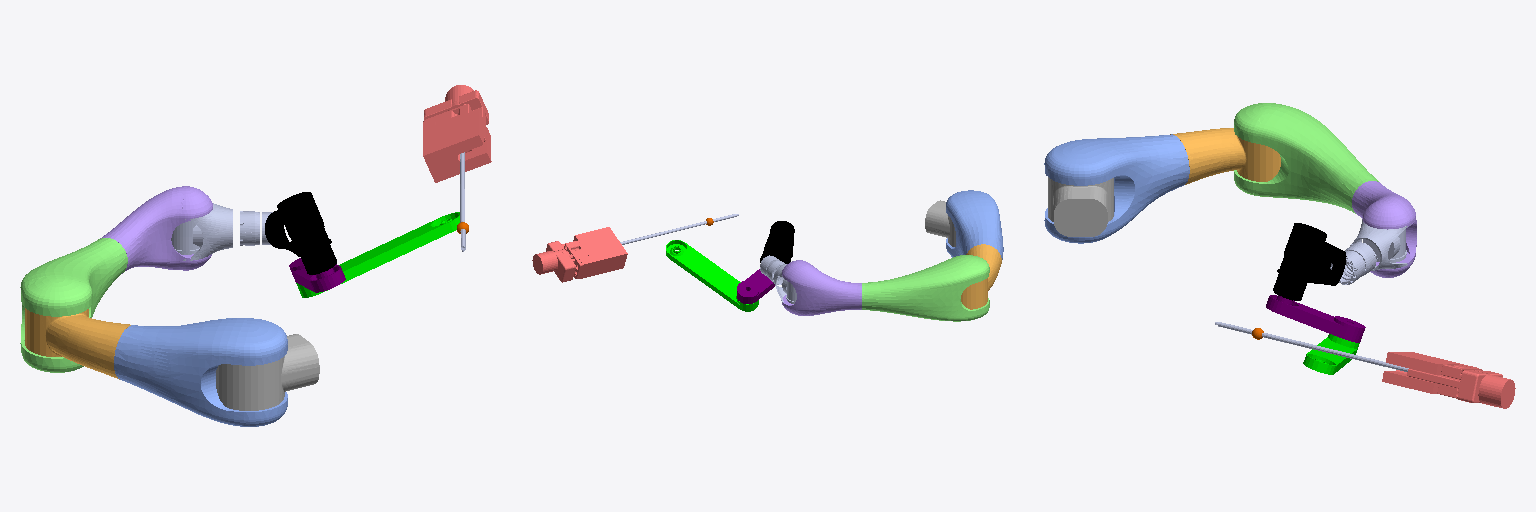
URDF robot description (V2_Arm_URDF):
<robot
  name="V2_Arm_URDF">

  <link
    name="V2_base_link">
    <inertial>
      <origin
        xyz="0.03524 -0.02456 -0.00065"
        rpy="0 0 0" />
      <mass
        value="2.44454" />
      <inertia
        ixx="0.00648"
        ixy="-0.00362"
        ixz="0.00009"
        iyy="0.00808"
        iyz="-0.00007"
        izz="0.01233" />
    </inertial>
    <visual>
      <origin
        xyz="0 0 0"
        rpy="0 0 0" />
      <geometry>
        <mesh
          filename="package://V2_Arm_URDF/meshes/V2_base_link.STL" />
      </geometry>
      <material
        name="">
        <color
          rgba="0.75294 0.75294 0.75294 1" />
      </material>
    </visual>
    <collision>
      <origin
        xyz="0 0 0"
        rpy="0 0 0" />
      <geometry>
        <mesh
          filename="package://V2_Arm_URDF/meshes/V2_base_link.STL" />
      </geometry>
    </collision>
  </link>

<link
    name="V2_shoulder_pitch_link">
    <inertial>
      <origin
        xyz="-0.01907 -0.08769 -3e-005"
        rpy="0 0 0" />
      <mass
        value="1.1442" />
      <inertia
        ixx="0.0021"
        ixy="0.0001"
        ixz="0"
        iyy="0.00127"
        iyz="0"
        izz="0.00175" />
    </inertial>
    <visual>
      <origin
        xyz="0 0 0"
        rpy="0 0 0" />
      <geometry>
        <mesh
          filename="package://V2_Arm_URDF/meshes/V2_shoulder_pitch_link.STL" />
      </geometry>
      <material
        name="">
        <color
          rgba="0.6 0.72549 1 1" />
      </material>
    </visual>
    <collision>
      <origin
        xyz="0 0 0"
        rpy="0 0 0" />
      <geometry>
        <mesh
          filename="package://V2_Arm_URDF/meshes/V2_shoulder_pitch_link.STL" />
      </geometry>
    </collision>
  </link>

<joint
    name="V2_shoulder_pitch_joint"
    type="revolute">
    <origin
      xyz="0 0 0"
      rpy="0 0 -2.617993877991494" />
    <parent
      link="V2_base_link" />
    <child
      link="V2_shoulder_pitch_link" />
    <axis
      xyz="0 0 1" />
    <limit effort="30" lower="-0.7809" upper="2.2385" velocity="1.0"/>
  </joint>

<link
    name="V2_shoulder_roll_link">
    <inertial>
      <origin
        xyz="0.01458 -0.00413 -0.02516"
        rpy="0 0 0" />
      <mass
        value="1.11006" />
      <inertia
        ixx="0.00402"
        ixy="-0.00002"
        ixz="0.00040"
        iyy="0.00409"
        iyz="-0.00012"
        izz="0.00088" />
    </inertial>
    <visual>
      <origin
        xyz="0 0 0"
        rpy="0 0 0" />
      <geometry>
        <mesh
          filename="package://V2_Arm_URDF/meshes/V2_shoulder_roll_link.STL" />
      </geometry>
      <material
        name="">
        <color
          rgba="1 0.75686 0.38431 1" />
      </material>
    </visual>
    <collision>
      <origin
        xyz="0 0 0"
        rpy="0 0 0" />
      <geometry>
        <mesh
          filename="package://V2_Arm_URDF/meshes/V2_shoulder_roll_link.STL" />
      </geometry>
    </collision>
  </link>

<joint
    name="V2_shoulder_roll_joint"
    type="revolute">
    <origin
      xyz="0.03000 -0.34986 0"
      rpy="-1.570796326794897 0 3.141592653589793" />
    <parent
      link="V2_shoulder_pitch_link" />
    <child
      link="V2_shoulder_roll_link" />
    <axis
      xyz="0 0 1" />
    <limit effort="30" lower="-1.5708" upper="1.5708" velocity="1.0"/>
  </joint>

<link
    name="V2_elbow_link">
    <inertial>
      <origin
        xyz="0.02563 -0.07981 -0.00218"
        rpy="0 0 0" />
      <mass
        value="1.24239" />
      <inertia
        ixx="0.00305"
        ixy="-0.00044"
        ixz="0.00007"
        iyy="0.00164"
        iyz="-0.00018"
        izz="0.00268" />
    </inertial>
    <visual>
      <origin
        xyz="0 0 0"
        rpy="0 0 0" />
      <geometry>
        <mesh
          filename="package://V2_Arm_URDF/meshes/V2_elbow_link.STL" />
      </geometry>
      <material
        name="">
        <color
          rgba="0.61569 1 0.55294 1" />
      </material>
    </visual>
    <collision>
      <origin
        xyz="0 0 0"
        rpy="0 0 0" />
      <geometry>
        <mesh
          filename="package://V2_Arm_URDF/meshes/V2_elbow_link.STL" />
      </geometry>
    </collision>
  </link>

<joint
    name="V2_elbow_joint"
    type="revolute">
    <origin
      xyz="0.04000 0 0"
      rpy="1.570796326794897 -1.570796326794897 0" />
    <parent
      link="V2_shoulder_roll_link" />
    <child
      link="V2_elbow_link" />
    <axis
      xyz="0 0 1" />
    <limit effort="30" lower="-1.4649" upper="1.5708" velocity="1.0"/>
  </joint>

<link
    name="V2_forearm_link">
    <inertial>
      <origin
        xyz="0.00245 -0.00208 -0.06052"
        rpy="0 0 0" />
      <mass
        value="0.76927" />
      <inertia
        ixx="0.00777"
        ixy="0.00000"
        ixz="0.00010"
        iyy="0.00771"
        iyz="-0.00010"
        izz="0.00045" />
    </inertial>
    <visual>
      <origin
        xyz="0 0 0"
        rpy="0 0 0" />
      <geometry>
        <mesh
          filename="package://V2_Arm_URDF/meshes/V2_forearm_link.STL" />
      </geometry>
      <material
        name="">
        <color
          rgba="0.76471 0.64706 1 1" />
      </material>
    </visual>
    <collision>
      <origin
        xyz="0 0 0"
        rpy="0 0 0" />
      <geometry>
        <mesh
          filename="package://V2_Arm_URDF/meshes/V2_forearm_link.STL" />
      </geometry>
    </collision>
  </link>

<joint
    name="V2_forearm_joint"
    type="revolute">
    <origin
      xyz="0.05000 -0.40000 0"
      rpy="1.570796326794897 0 0" />
    <parent
      link="V2_elbow_link" />
    <child
      link="V2_forearm_link" />
    <axis
      xyz="0 0 1" />
    <limit effort="30" lower="-1.5708" upper="1.5708" velocity="1.0"/>
  </joint>

<link
    name="V2_spherical_base_link">
    <inertial>
      <origin
        xyz="-0.00003 -0.08083 -0.00729"
        rpy="0 0 0" />
      <mass
        value="0.58375" />
      <inertia
        ixx="0.00079"
        ixy="0.00000"
        ixz="0.00000"
        iyy="0.00029"
        iyz="-0.00019"
        izz="0.00071" />
    </inertial>
    <visual>
      <origin
        xyz="0 0 0"
        rpy="0 0 0" />
      <geometry>
        <mesh
          filename="package://V2_Arm_URDF/meshes/V2_spherical_base_link.STL" />
      </geometry>
      <material
        name="">
        <color
          rgba="0.79216 0.81961 0.93333 1" />
      </material>
    </visual>
    <collision>
      <origin
        xyz="0 0 0"
        rpy="0 0 0" />
      <geometry>
        <mesh
          filename="package://V2_Arm_URDF/meshes/V2_spherical_base_link.STL" />
      </geometry>
    </collision>
  </link>

<joint
    name="V2_spherical_base_joint"
    type="revolute">
    <origin
      xyz="-0.05000 0 0"
      rpy="-1.570796326794897 1.047197551196598 -3.141592653589793" />
    <parent
      link="V2_forearm_link" />
    <child
      link="V2_spherical_base_link" />
    <axis
      xyz="0 0 1" />
    <limit effort="30" lower="-1.4820" upper="1.2368" velocity="1.0"/>
  </joint>

<link
    name="V2_spherical_roll_link">
    <inertial>
      <origin
        xyz="0.04089 0.02025 -0.00405"
        rpy="0 0 0" />
      <mass
        value="0.62222" />
      <inertia
        ixx="0.00072"
        ixy="0.00007"
        ixz="0.00019"
        iyy="0.00069"
        iyz="0.00017"
        izz="0.00048" />
    </inertial>
    <visual>
      <origin
        xyz="0 0 0"
        rpy="0 0 0" />
      <geometry>
        <mesh
          filename="package://V2_Arm_URDF/meshes/V2_spherical_roll_link.STL" />
      </geometry>
      <material
        name="">
        <color
          rgba="0 0 0 1" />
      </material>
    </visual>
    <collision>
      <origin
        xyz="0 0 0"
        rpy="0 0 0" />
      <geometry>
        <mesh
          filename="package://V2_Arm_URDF/meshes/V2_spherical_roll_link.STL" />
      </geometry>
    </collision>
  </link>

<joint
    name="V2_spherical_roll_joint"
    type="revolute">
    <origin
      xyz="0 -0.19264 0"
      rpy="1.570796326794897 0.187797427514590 0" />
    <parent
      link="V2_spherical_base_link" />
    <child
      link="V2_spherical_roll_link" />
    <axis
      xyz="0 0 1" />
    <limit effort="30" lower="-4.71239" upper="4.71239" velocity="1.0"/>
  </joint>

<link
    name="V2_pitch_a_link">
    <inertial>
      <origin
        xyz="0.06112 0.00001 -0.06884"
        rpy="0 0 0" />
      <mass
        value="0.25074" />
      <inertia
        ixx="0.00005"
        ixy="0.00000"
        ixz="-0.00001"
        iyy="0.00058"
        iyz="0.00000"
        izz="0.00061" />
    </inertial>
    <visual>
      <origin
        xyz="0 0 0"
        rpy="0 0 0" />
      <geometry>
        <mesh
          filename="package://V2_Arm_URDF/meshes/V2_pitch_a_link.STL" />
      </geometry>
      <material
        name="">
        <color
          rgba="0.5 0 0.5 1" />
      </material>
    </visual>
    <collision>
      <origin
        xyz="0 0 0"
        rpy="0 0 0" />
      <geometry>
        <mesh
          filename="package://V2_Arm_URDF/meshes/V2_pitch_a_link.STL" />
      </geometry>
    </collision>
  </link>

<joint
    name="V2_pitch_a_joint"
    type="revolute">
    <origin
      xyz="0.06300 0 0"
      rpy="-1.968005595726763 0.252223013547240 3.037281498626475" />
    <parent
      link="V2_spherical_roll_link" />
    <child
      link="V2_pitch_a_link" />
    <axis
      xyz="0 0 1" />
    <limit effort="30" lower="-1.0236" upper="1.4198" velocity="1.0"/>
  </joint>

  <link
    name="V2_pitch_b_link">
    <inertial>
      <origin
        xyz="0.10055 0.00000 -0.02885"
        rpy="0 0 0" />
      <mass
        value="0.32909" />
      <inertia
        ixx="0.00008"
        ixy="0.00000"
        ixz="-0.00003"
        iyy="0.00199"
        iyz="0.00000"
        izz="0.00204" />
    </inertial>
    <visual>
      <origin
        xyz="0 0 0"
        rpy="0 0 0" />
      <geometry>
        <mesh
          filename="package://V2_Arm_URDF/meshes/V2_pitch_b_link.STL" />
      </geometry>
      <material
        name="">
        <color
          rgba="0 1 0 1" />
      </material>
    </visual>
    <collision>
      <origin
        xyz="0 0 0"
        rpy="0 0 0" />
      <geometry>
        <mesh
          filename="package://V2_Arm_URDF/meshes/V2_pitch_b_link.STL" />
      </geometry>
    </collision>
  </link>

 <joint
    name="V2_pitch_b_joint"
    type="revolute">
    <origin
      xyz="0.11430 0 -0.06977"
      rpy="0 0 -1.564109097765881" />
    <parent
      link="V2_pitch_a_link" />
    <child
      link="V2_pitch_b_link" />
    <axis
      xyz="0 0 1" />
    <limit effort="30" lower="-1.4198" upper="1.0236" velocity="1.0"/>
  </joint>

  <link
    name="V2_pitch_c_link">
    <inertial>
      <origin
        xyz="-0.01117 0.09924 0.01528"
        rpy="0 0 0" />
      <mass
        value="0.80641" />
      <inertia
        ixx="0.01036"
        ixy="-0.00132"
        ixz="-0.00020"
        iyy="0.00085"
        iyz="0.00160"
        izz="0.01031" />
    </inertial>
    <visual>
      <origin
        xyz="0 0 0"
        rpy="0 0 0" />
      <geometry>
        <mesh
          filename="package://V2_Arm_URDF/meshes/V2_pitch_c_link.STL" />
      </geometry>
      <material
        name="">
        <color
          rgba="0 0 1 1" />
      </material>
    </visual>
    <collision>
      <origin
        xyz="0 0 0"
        rpy="0 0 0" />
      <geometry>
        <mesh
          filename="package://V2_Arm_URDF/meshes/V2_pitch_c_link.STL" />
      </geometry>
    </collision>
  </link>

  <joint
    name="V2_pitch_c_joint"
    type="revolute">
    <origin
      xyz="0.22860 0 0"
      rpy="0 0 -0.344668842414317" />
    <parent
      link="V2_pitch_b_link" />
    <child
      link="V2_pitch_c_link" />
    <axis
      xyz="0 0 1" />
    <limit effort="30" lower="-1.0236" upper="1.4198" velocity="1.0"/>
  </joint>

  <link
    name="V2_tool_translate_link">
    <inertial>
      <origin
        xyz="-0.01533 0.00049 -0.24139"
        rpy="0 0 0" />
      <mass
        value="0.780" />
      <inertia
        ixx="0.00070"
        ixy="0.00000"
        ixz="0.00001"
        iyy="0.00088"
        iyz="-0.00001"
        izz="0.00052" />
    </inertial>
    <visual>
      <origin
        xyz="0 0 0"
        rpy="0 0 0" />
      <geometry>
        <mesh
          filename="package://V2_Arm_URDF/meshes/V2_tool_translate_link.STL" />
      </geometry>
      <material
        name="">
        <color
          rgba="1 0.50196 0.50196 1" />
      </material>
    </visual>
    <collision>
      <origin
        xyz="0 0 0"
        rpy="0 0 0" />
      <geometry>
        <mesh
          filename="package://V2_Arm_URDF/meshes/V2_tool_translate_link.STL" />
      </geometry>
    </collision>
  </link>

 <joint
    name="V2_tool_translate_joint"
    type="prismatic">
    <origin
      xyz="0.03790 0 0"
      rpy="1.745329251994330 0 0" />
    <parent
      link="V2_pitch_c_link" />
    <child
      link="V2_tool_translate_link" />
    <axis
      xyz="0 0 1" />
    <limit effort="30" lower="-0.081825" upper="0.178175" velocity="1.0"/>
  </joint>

 <link
    name="V2_tool_rotate_link">
    <inertial>
      <origin
        xyz="0 0 -0.3658427"
        rpy="0 0 0" />
      <mass
        value="0.05" />
      <inertia
        ixx="0.0008676"
        ixy="0"
        ixz="0"
        iyy="0.0008676"
        iyz="0"
        izz="2.6e-006" />
    </inertial>
    <visual>
      <origin
        xyz="0 0 0"
        rpy="0 0 0" />
      <geometry>
        <mesh
          filename="package://V2_Arm_URDF/meshes/V2_tool_rotate_link.STL" />
      </geometry>
      <material
        name="">
        <color
          rgba="0.79216 0.81961 0.93333 1" />
      </material>
    </visual>
    <collision>
      <origin
        xyz="0 0 0"
        rpy="0 0 0" />
      <geometry>
        <mesh
          filename="package://V2_Arm_URDF/meshes/V2_tool_rotate_link.STL" />
      </geometry>
    </collision>
  </link>

<joint
    name="V2_tool_rotate_joint"
    type="revolute">
    <origin
      xyz="0 0 0.18910"
      rpy="0 0 0" />
    <parent
      link="V2_tool_translate_link" />
    <child
      link="V2_tool_rotate_link" />
    <axis
      xyz="0 0 1" />
    <limit effort="30" lower="-7.85398" upper="7.85398" velocity="1.0"/>
  </joint>

 <link
    name="V2_wrist_link">
    <inertial>
      <origin
        xyz="0.0054201 0 0"
        rpy="0 0 0" />
      <mass
        value="0.005" />
      <inertia
        ixx="0"
        ixy="0"
        ixz="0"
        iyy="2e-007"
        iyz="0"
        izz="1e-007" />
    </inertial>
    <visual>
      <origin
        xyz="0 0 0"
        rpy="0 0 0" />
      <geometry>
        <mesh
          filename="package://V2_Arm_URDF/meshes/V2_wrist_link.STL" />
      </geometry>
      <material
        name="">
        <color
          rgba="0 1 0 1" />
      </material>
    </visual>
    <collision>
      <origin
        xyz="0 0 0"
        rpy="0 0 0" />
      <geometry>
        <mesh
          filename="package://V2_Arm_URDF/meshes/V2_wrist_link.STL" />
      </geometry>
    </collision>
  </link>

<joint
    name="V2_wrist_joint"
    type="revolute">
    <origin
      xyz="0 0 0"
      rpy="1.570796326794897 -1.570796326794897 0" />
    <parent
      link="V2_tool_rotate_link" />
    <child
      link="V2_wrist_link" />
    <axis
      xyz="0 0 1" />
    <limit effort="30" lower="-1.5708" upper="1.5708" velocity="1.0"/>
  </joint>

<link
    name="V2_distal_wrist_link">
</link>

<joint
    name="V2_distal_wrist_joint"
    type="revolute">
    <origin
      xyz="0.012333 0 0"
      rpy="1.570796326794897 0 0" />
    <parent
      link="V2_wrist_link" />
    <child
      link="V2_distal_wrist_link" />
    <axis
      xyz="0 0 1" />
    <limit effort="30" lower="-1.5708" upper="1.5708" velocity="1.0"/>
</joint>

<link
    name="V2_jaw_a_link">
    <inertial>
      <origin
        xyz="0.0073012 -0.0004332 -0.0015031"
        rpy="0 0 0" />
      <mass
        value="0.005" />
      <inertia
        ixx="0"
        ixy="0"
        ixz="0"
        iyy="4e-007"
        iyz="0"
        izz="4e-007" />
    </inertial>
    <visual>
      <origin
        xyz="0 0 0"
        rpy="0 0 0" />
      <geometry>
        <mesh
          filename="package://V2_Arm_URDF/meshes/V2_jaw_a_link.STL" />
      </geometry>
      <material
        name="">
        <color
          rgba="0.9098 0.44314 0.031373 1" />
      </material>
    </visual>
    <collision>
      <origin
        xyz="0 0 0"
        rpy="0 0 0" />
      <geometry>
        <mesh
          filename="package://V2_Arm_URDF/meshes/V2_jaw_a_link.STL" />
      </geometry>
    </collision>
</link>

<joint
    name="V2_jaw_a_joint"
    type="revolute">
    <origin
      xyz="0 0 0"
      rpy="0 0 0" />
    <parent
      link="V2_distal_wrist_link" />
    <child
      link="V2_jaw_a_link" />
    <axis
      xyz="0 0 1" />
    <limit effort="30" lower="-1.5708" upper="1.5708" velocity="1.0"/>
  </joint>

<link
    name="V2_jaw_b_link">  
    <inertial>
      <origin
        xyz="0.0073012 0.0004332 0.0015031"
        rpy="0 0 0" />
      <mass
        value="0.005" />
      <inertia
        ixx="0"
        ixy="0"
        ixz="0"
        iyy="4e-007"
        iyz="0"
        izz="4e-007" />
    </inertial>
    <visual>
      <origin
        xyz="0 0 0"
        rpy="0 0 0" />
      <geometry>
        <mesh
          filename="package://V2_Arm_URDF/meshes/V2_jaw_b_link.STL" />
      </geometry>
      <material
        name="">
        <color
          rgba="0.9098 0.44314 0.031373 1" />
      </material>
    </visual>
    <collision>
      <origin
        xyz="0 0 0"
        rpy="0 0 0" />
      <geometry>
        <mesh
          filename="package://V2_Arm_URDF/meshes/V2_jaw_b_link.STL" />
      </geometry>
    </collision>
  </link>

<joint
    name="V2_jaw_b_joint"
    type="revolute">
    <origin
      xyz="0 0 0"
      rpy="0 0 0" />
    <parent
      link="V2_distal_wrist_link" />
    <child
      link="V2_jaw_b_link" />
    <axis
      xyz="0 0 1" />
    <limit effort="30" lower="-1.5708" upper="1.5708" velocity="1.0"/>
  </joint>

/* ATI force-torque sensor: 

<link
    name="V2_ATI_sensor_link">  
    <inertial>
      <origin
        xyz="0.00082860 0 -0.01099715"
        rpy="0 0 0" />
      <mass
        value="0.063" />
      <inertia
        ixx="0.00000474"
        ixy="0.0000000"
        ixz="-0.00000032"
        iyy="0.00000597"
        iyz="-0.00000002"
        izz="0.00000595" />
    </inertial>
    <visual>
      <origin
        xyz="0 0 0"
        rpy="0 0 0" />
      <geometry>
        <mesh
          filename="package://V2_Arm_URDF/meshes/V2_ATI_sensor_link.STL" />
      </geometry>
      <material
        name="">
        <color
          rgba="0.9098 0.44314 0.031373 1" />
      </material>
    </visual>
    <collision>
      <origin
        xyz="0 0 0"
        rpy="0 0 0" />
      <geometry>
        <mesh
          filename="package://V2_Arm_URDF/meshes/V2_ATI_sensor_link.STL" />
      </geometry>
    </collision>
  </link>

<joint
    name="V2_ATI_sensor_joint"
    type="fixed">
    <origin
      xyz="-0.03255 -0.00435 -0.04611"
      rpy="-3.0370 0 1.70380" />
    <parent
      link="V2_spherical_roll_link" />
    <child
      link="V2_ATI_sensor_link" />
  </joint>

/* Remote Center of Motion (RCM) link

<link
    name="V2_RCM_link">  
    <inertial>
      <origin
        xyz="0 0 0"
        rpy="0 0 0" />
      <mass
        value="0.001" />
      <inertia
        ixx="0.000004"
        ixy="0.0000000"
        ixz="0.0000000"
        iyy="0.00000004"
        iyz="0.00000000"
        izz="0.00000004" />
    </inertial>
    <visual>
      <origin
        xyz="0 0 0"
        rpy="0 0 0" />
      <geometry>
        <mesh
          filename="package://V2_Arm_URDF/meshes/V2_RCM_link.STL" />
      </geometry>
      <material
        name="">
        <color
          rgba="0.9098 0.44314 0.031373 1" />
      </material>
    </visual>
    <collision>
      <origin
        xyz="0 0 0"
        rpy="0 0 0" />
      <geometry>
        <mesh
          filename="package://V2_Arm_URDF/meshes/V2_RCM_link.STL" />
      </geometry>
    </collision>
  </link>

<joint
    name="V2_RCM_joint"
    type="fixed">
    <origin
      xyz="0.03790 -0.10783 -0.01901"
      rpy="1.7570 0.38397 0.065465" />
    <parent
      link="V2_pitch_c_link" />
    <child
      link="V2_RCM_link" />
  </joint>

</robot>

--- Render facts (derived) ---
3 views of the same robot in one strip: view 1: azimuth 30°, elevation 25°; view 2: azimuth 150°, elevation 25°; view 3: azimuth 270°, elevation 25° (orthographic).
Model V2_Arm_URDF with 18 links and 17 joints (14 revolute, 1 prismatic, 2 fixed), rooted at V2_base_link, posed every joint at zero.
Links seen in each view (by area): view 1: V2_shoulder_pitch_link, V2_elbow_link, V2_forearm_link, V2_tool_translate_link, V2_base_link, V2_shoulder_roll_link, V2_spherical_roll_link, V2_spherical_base_link, V2_pitch_b_link, V2_pitch_a_link; view 2: V2_elbow_link, V2_tool_translate_link, V2_forearm_link, V2_shoulder_pitch_link, V2_pitch_b_link, V2_shoulder_roll_link, V2_spherical_roll_link, V2_base_link, V2_spherical_base_link, V2_pitch_a_link; view 3: V2_elbow_link, V2_shoulder_pitch_link, V2_tool_translate_link, V2_shoulder_roll_link, V2_spherical_roll_link, V2_base_link, V2_forearm_link, V2_spherical_base_link, V2_pitch_a_link, V2_pitch_b_link, V2_tool_rotate_link.
Link boxes in pixels (x1,y1,x2,y2): V2_shoulder_pitch_link: (114, 318, 287, 426); V2_elbow_link: (20, 238, 127, 372); V2_forearm_link: (100, 186, 212, 273); V2_tool_translate_link: (423, 85, 491, 182); V2_base_link: (216, 334, 319, 410); V2_shoulder_roll_link: (25, 308, 130, 379); V2_spherical_roll_link: (265, 192, 336, 274); V2_spherical_base_link: (171, 203, 272, 260); V2_pitch_b_link: (296, 212, 459, 297); V2_pitch_a_link: (289, 258, 345, 292); V2_elbow_link: (862, 255, 989, 321); V2_tool_translate_link: (532, 227, 627, 282); V2_forearm_link: (782, 260, 861, 315); V2_shoulder_pitch_link: (946, 190, 1003, 259); V2_pitch_b_link: (666, 240, 758, 311); V2_shoulder_roll_link: (961, 244, 1001, 309); V2_spherical_roll_link: (760, 221, 794, 263); V2_base_link: (925, 200, 955, 246); V2_spherical_base_link: (760, 255, 796, 304); V2_pitch_a_link: (737, 269, 774, 303); V2_elbow_link: (1234, 103, 1378, 213); V2_shoulder_pitch_link: (1044, 134, 1189, 243); V2_tool_translate_link: (1382, 352, 1515, 408); V2_shoulder_roll_link: (1170, 128, 1280, 184); V2_spherical_roll_link: (1273, 223, 1346, 300); V2_base_link: (1048, 177, 1113, 236); V2_forearm_link: (1352, 181, 1416, 277); V2_spherical_base_link: (1330, 219, 1410, 284); V2_pitch_a_link: (1266, 295, 1365, 342); V2_pitch_b_link: (1303, 334, 1359, 374); V2_tool_rotate_link: (1215, 322, 1408, 371).
Size in the robot's own frame: 1.03 by 0.7787 by 0.2138 metres.
12 mesh visuals loaded from 17 distinct referenced files (12 binary STL); not drawn: 5 (reference not matched to a file when rendering).
